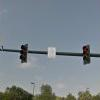Traffic light: (14, 38, 94, 72)
